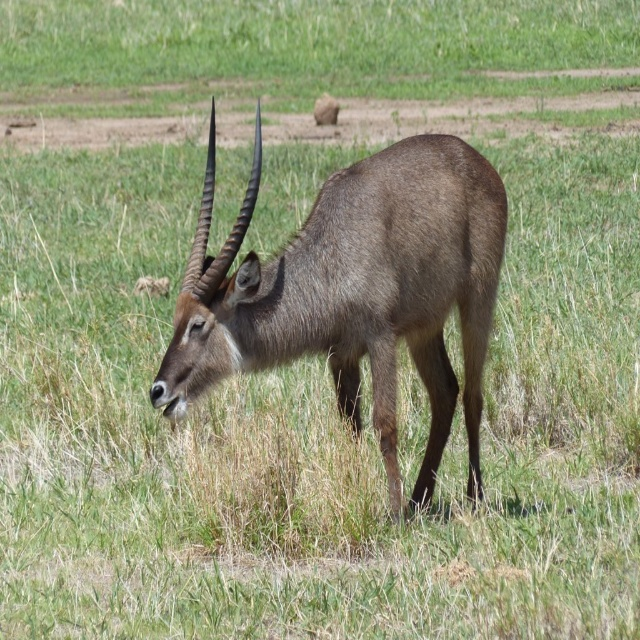Deer: (149, 95, 508, 525)
